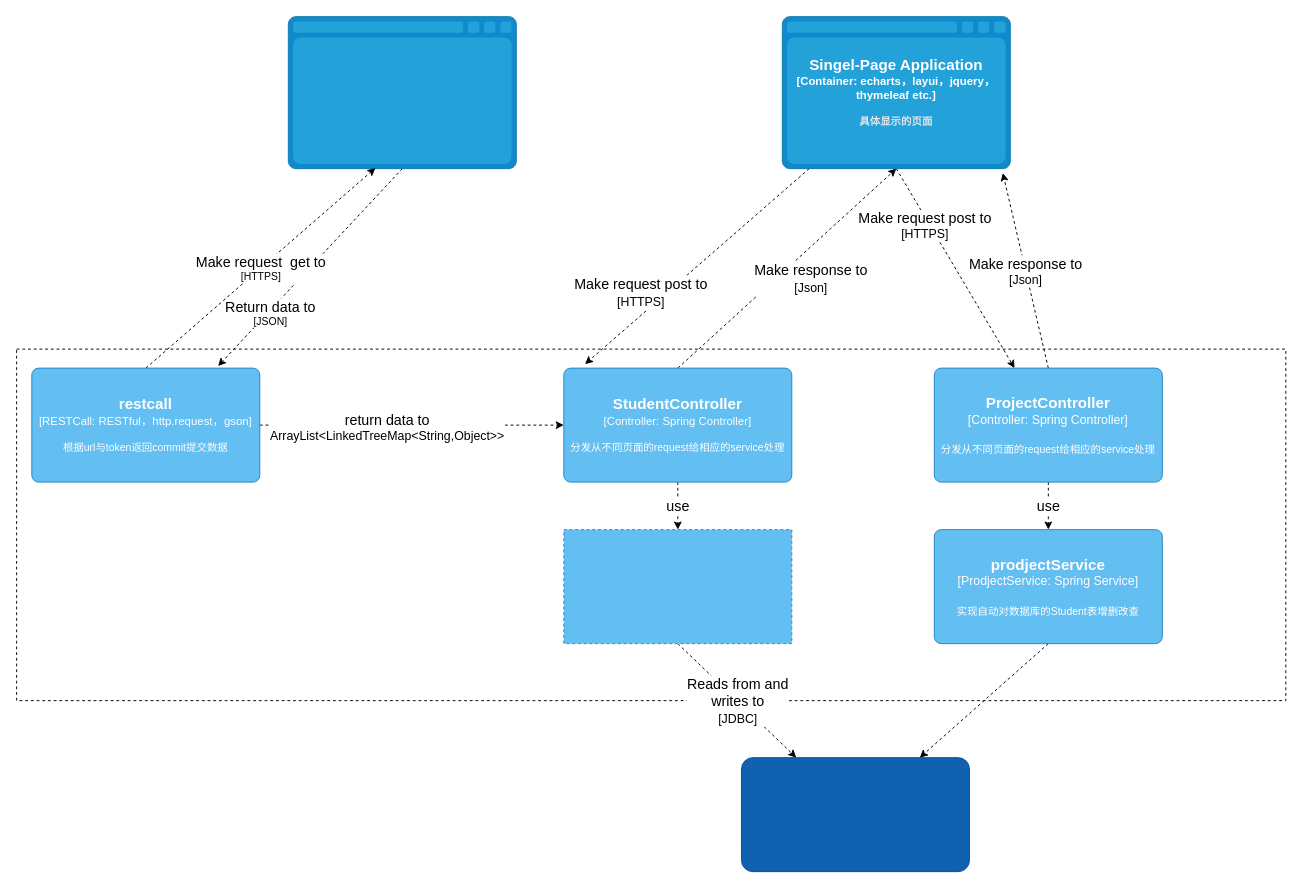
This 1302x888 diagram has some shape labels left out. Each missing label, with the box of its shape:
github API [githubREST: JavaScript, request, Json etc.] 提供github的commit相关的数据: (287, 16, 516, 169)
studentService [StudentService: Spring Service] 实现自动对数据库的Student表增删改查: (563, 529, 792, 644)
StudentsProjectDB [Mysql Database] 存储着学生与项目的内容与信息: (741, 757, 969, 872)
